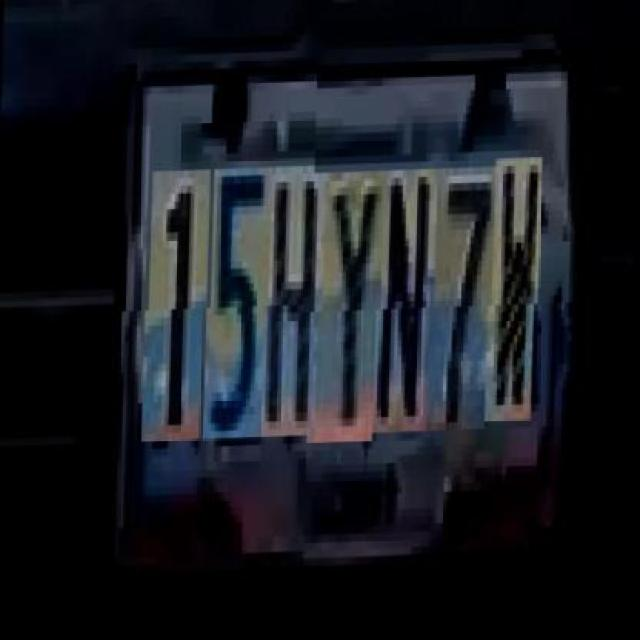1: (147, 178, 211, 451)
5: (209, 177, 273, 449)
7: (432, 170, 497, 435)
h: (267, 175, 327, 447)
n: (379, 172, 439, 436)
w: (490, 162, 544, 424)
y: (321, 173, 385, 445)
